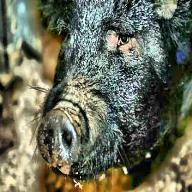boar: (36, 0, 192, 186)
